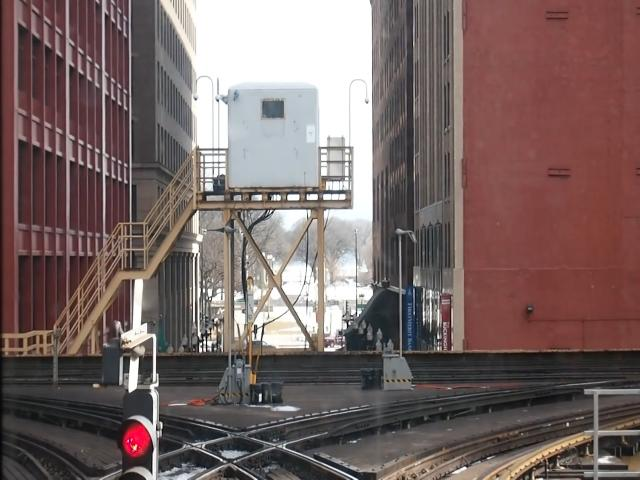signal light: (116, 386, 166, 480)
